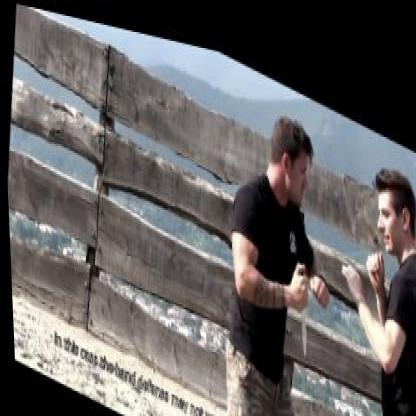knife: (282, 251, 312, 345)
